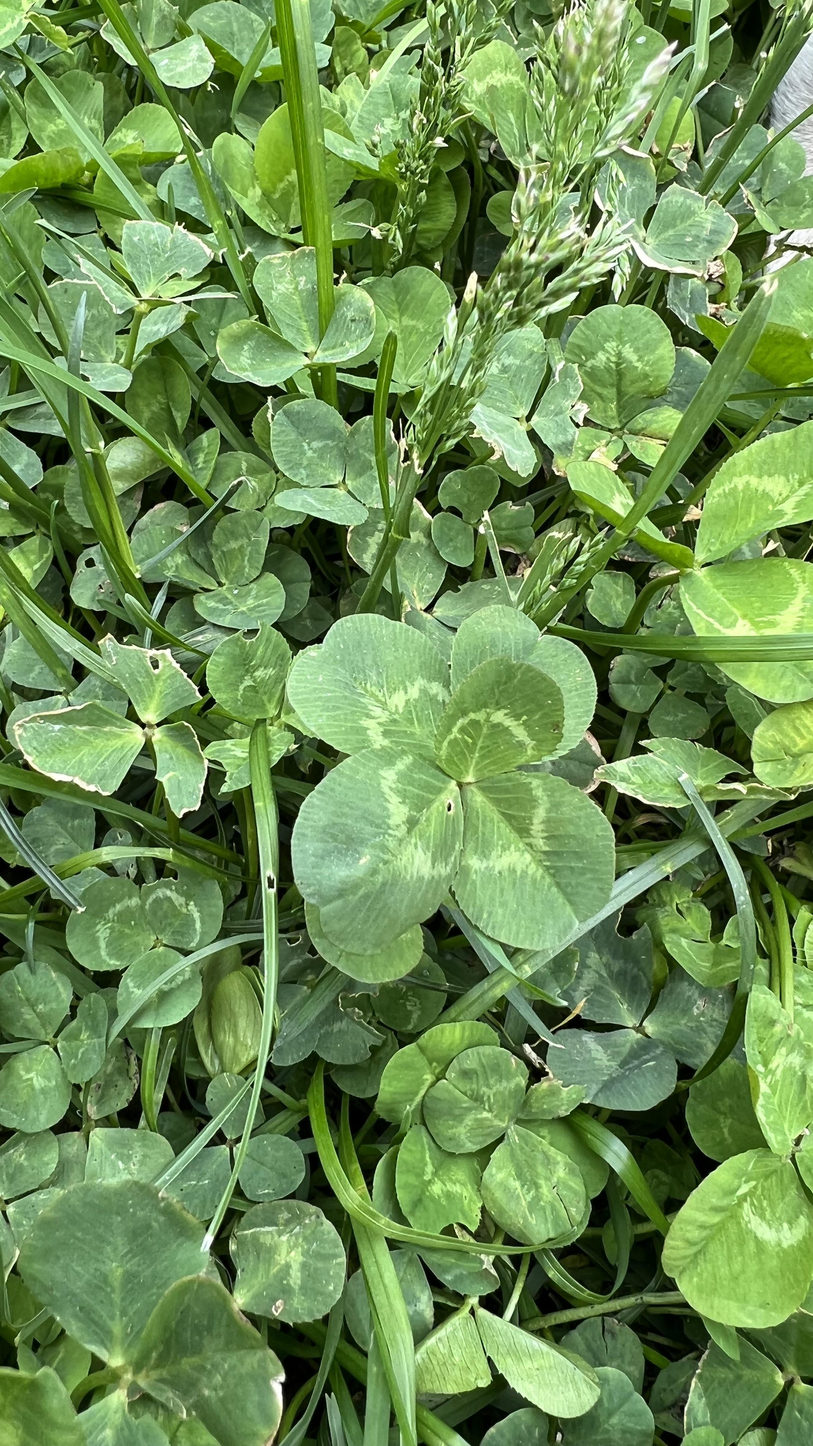5-Leaf-Clovers: (291, 604, 617, 985)
